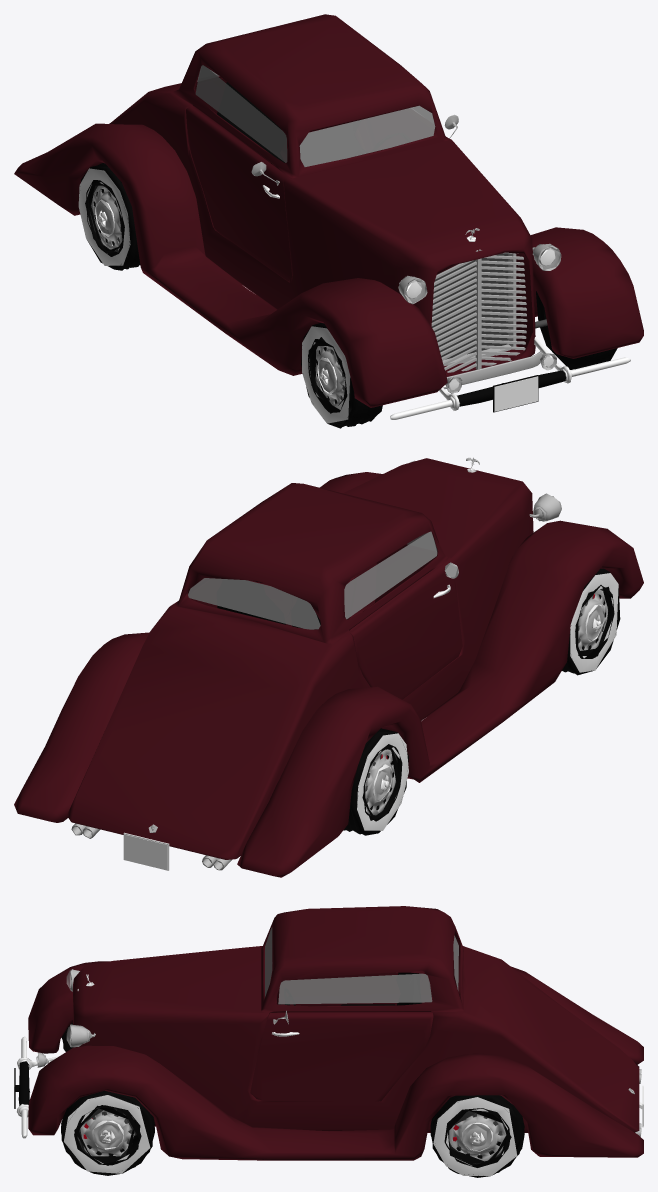
File: muscle.glb
3 views of the same model, one above another, from view 1: azimuth 30°, elevation 25°; view 2: azimuth 150°, elevation 25°; view 3: azimuth 270°, elevation 25° (orthographic). The views are drawn at different scales.
Visible parts, largest first — view 1: object 1, object 3, object 2, pasted__pasted__pasted__pCube6_pasted__pasted__pasted__phong, object 4; view 2: object 1, object 3, object 2, pasted__pasted__pasted__pCube3_pasted__pasted__pasted__phong; view 3: object 1, object 3, object 2, object 4.
Part boxes in pixels (left/top/right/bottom): object 1: left=14, top=14, right=643, bottom=407; object 3: left=78, top=115, right=630, bottom=428; object 2: left=91, top=82, right=458, bottom=407; pasted__pasted__pasted__pCube6_pasted__pasted__pasted__phong: left=494, top=376, right=538, bottom=411; object 4: left=457, top=370, right=566, bottom=412; object 1: left=14, top=458, right=643, bottom=877; object 3: left=123, top=457, right=620, bottom=870; object 2: left=71, top=562, right=607, bottom=870; pasted__pasted__pasted__pCube3_pasted__pasted__pasted__phong: left=124, top=834, right=167, bottom=869; object 1: left=28, top=906, right=643, bottom=1160; object 3: left=16, top=970, right=643, bottom=1177; object 2: left=78, top=972, right=641, bottom=1161; object 4: left=14, top=1061, right=29, bottom=1108.
Bounding box in the file's own units: 1.81 × 1.35 × 4.03.
